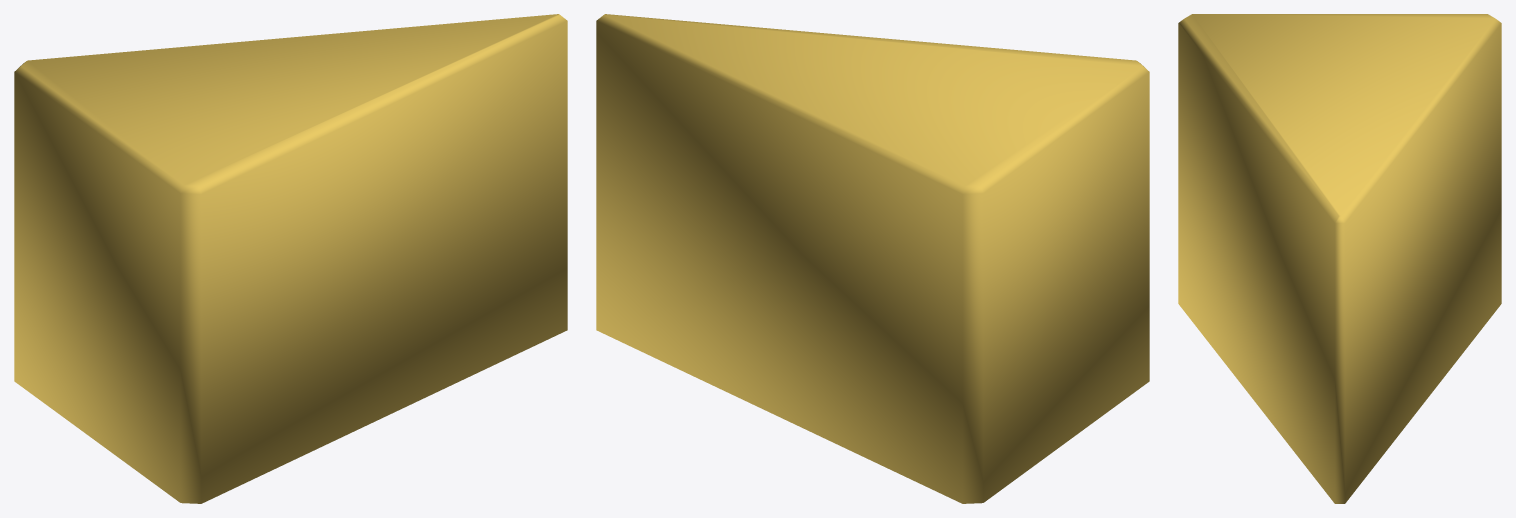
File: cheese.fbx
The picture shows the model from 3 angles, left to right: view 1: azimuth 30°, elevation 25°; view 2: azimuth 150°, elevation 25°; view 3: azimuth 270°, elevation 25°; orthographic projection. The views are drawn at different scales.
Parts seen in each view (by area): view 1: cheese; view 2: cheese; view 3: cheese.
Boxes of the visible parts, bbox=[...] form: cheese: bbox=[14, 14, 567, 503]; cheese: bbox=[596, 14, 1149, 503]; cheese: bbox=[1178, 14, 1501, 503].
Bounding box in the file's own units: 155 × 99.95 × 103.
